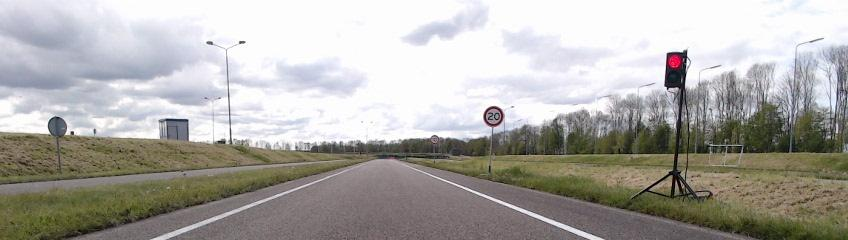Speed-limit-10km-h-: (430, 135, 439, 144)
Speed-limit-20km-h-: (483, 106, 504, 127)
TrafficLight-red: (665, 51, 686, 88)
